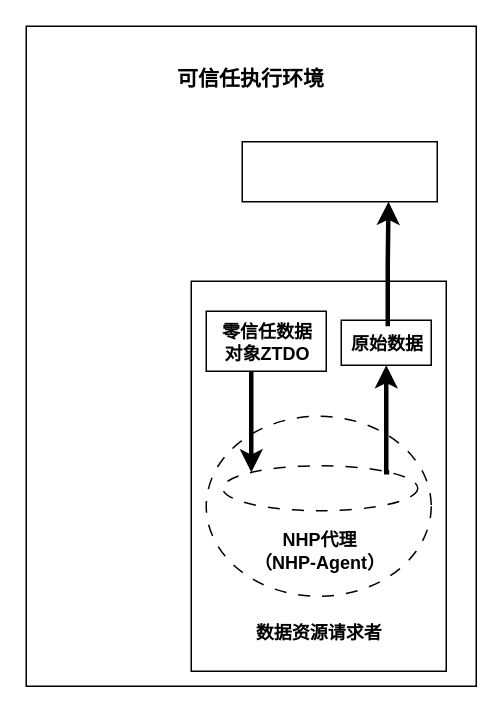
This 503x713 diagram has some shape labels left out. Here are the shapes that lost their labels. From the top down, the box of each, then its label:
(241, 140, 437, 202): 数据应用
(221, 464, 418, 511): DHP数据解封层
